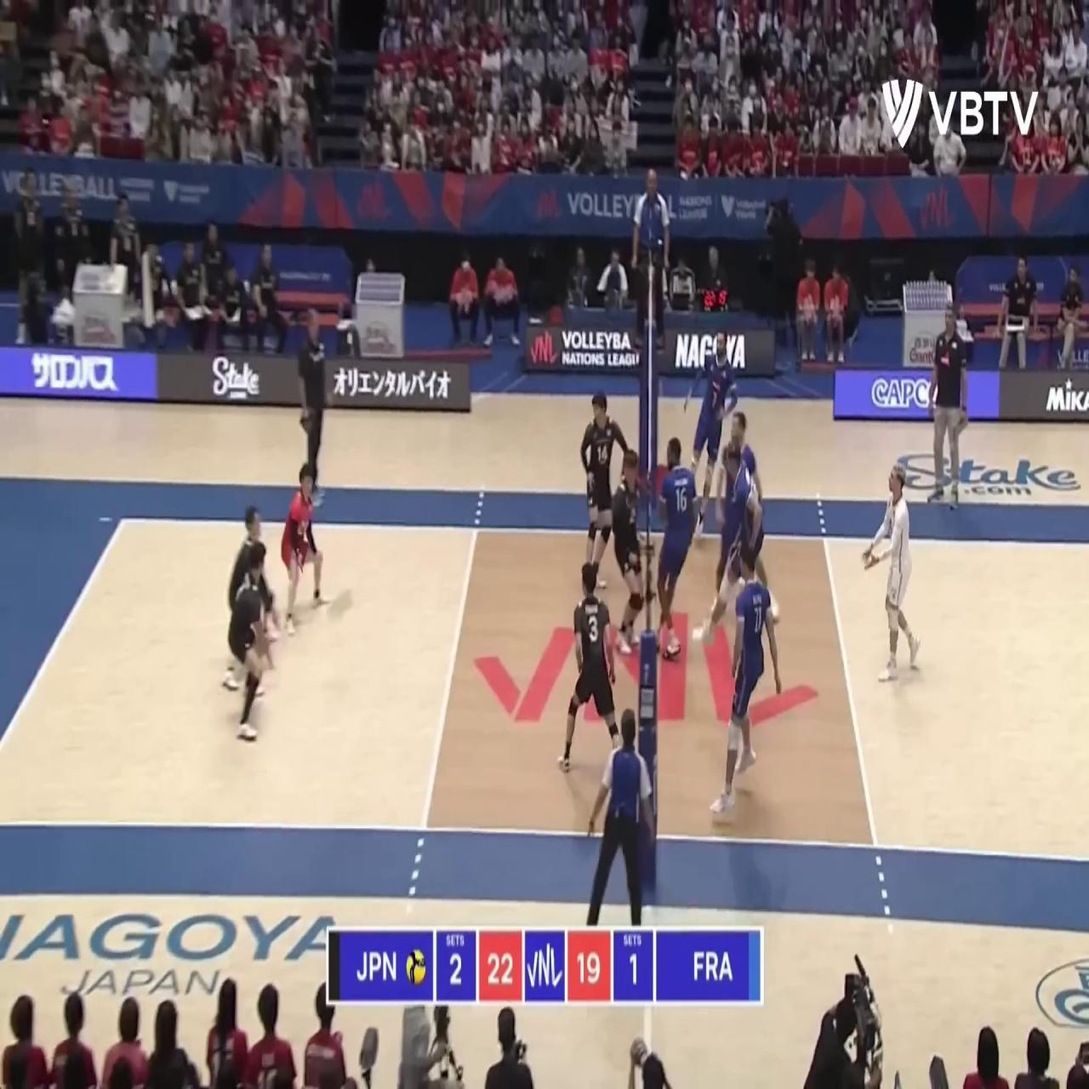ball: (329, 586, 352, 622)
